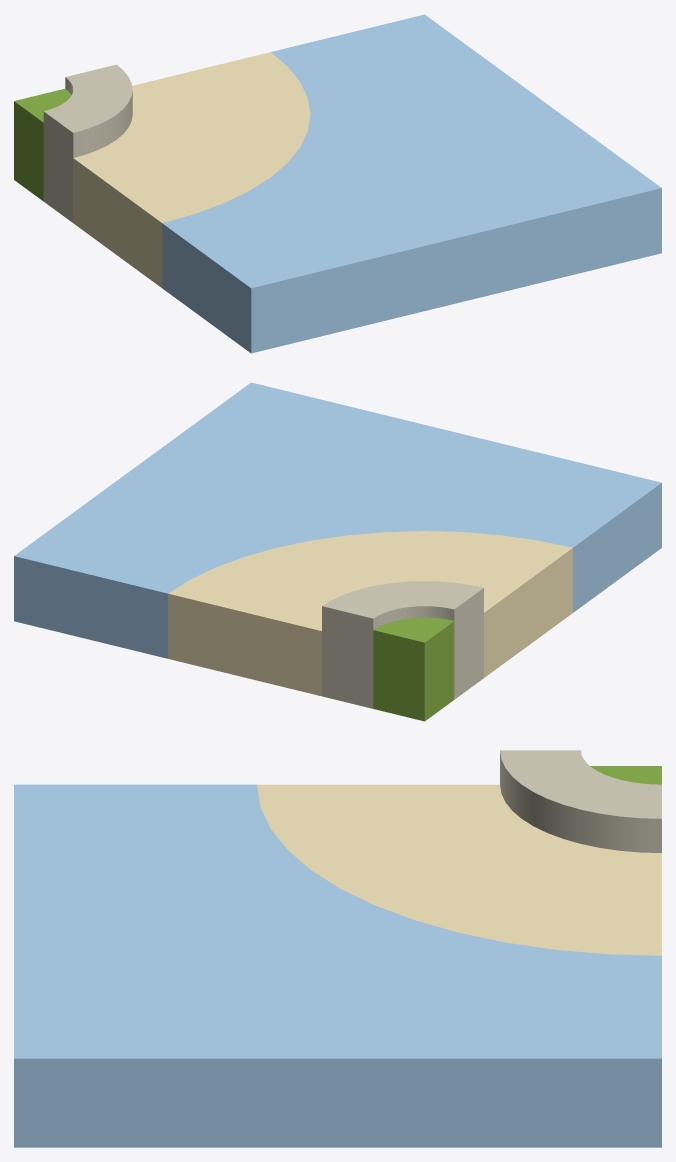
The model's file is tile155.dae.
3 renders of one model, top to bottom at view 1: azimuth 30°, elevation 25°; view 2: azimuth 150°, elevation 25°; view 3: azimuth 270°, elevation 25°, orthographic. The views are drawn at different scales.
Visible parts, largest first — view 1: tile155; view 2: tile155; view 3: tile155.
Boxes of the visible parts, left/top/right/bottom form: tile155: left=14, top=14, right=661, bottom=353; tile155: left=14, top=382, right=661, bottom=721; tile155: left=14, top=750, right=661, bottom=1147.
Bounding box in the file's own units: 1 × 0.21 × 1.
